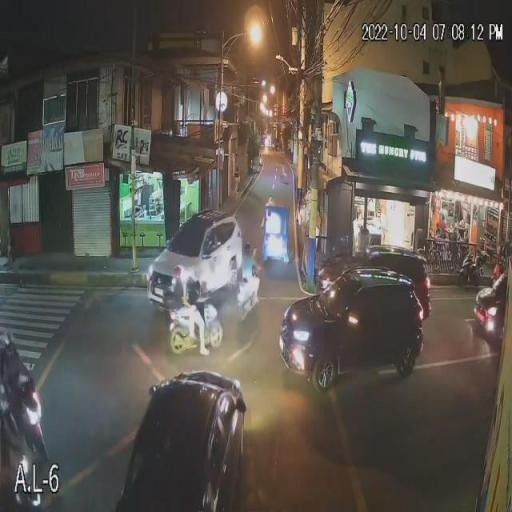helmet: (189, 263, 203, 283), (173, 264, 184, 282), (242, 241, 253, 255)
motorcycle: (168, 307, 222, 355), (235, 277, 265, 316)
rider: (187, 283, 210, 356), (171, 280, 195, 341), (239, 257, 262, 303)
